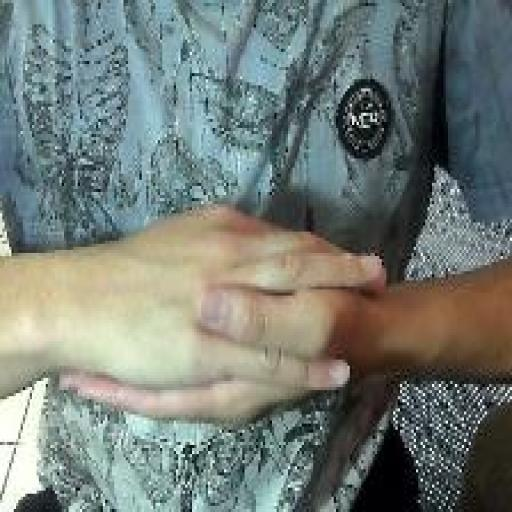Saru -monkey-: (55, 198, 393, 442)
